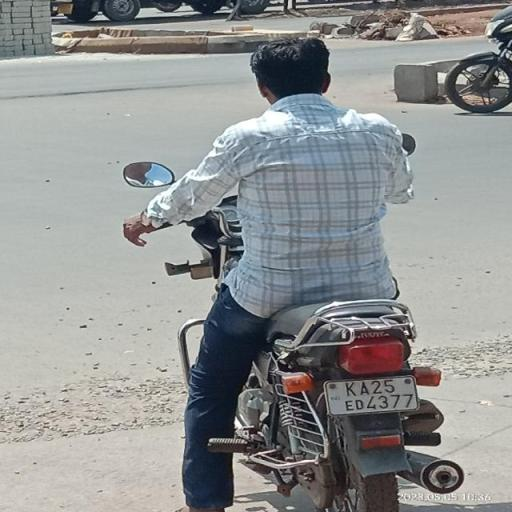bike: (88, 21, 474, 512), (253, 40, 333, 92)
numberplate: (326, 377, 422, 413)
